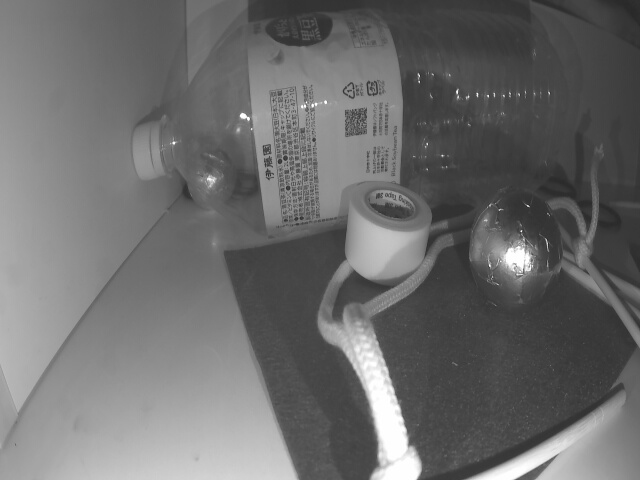Live: (469, 185, 562, 311)
